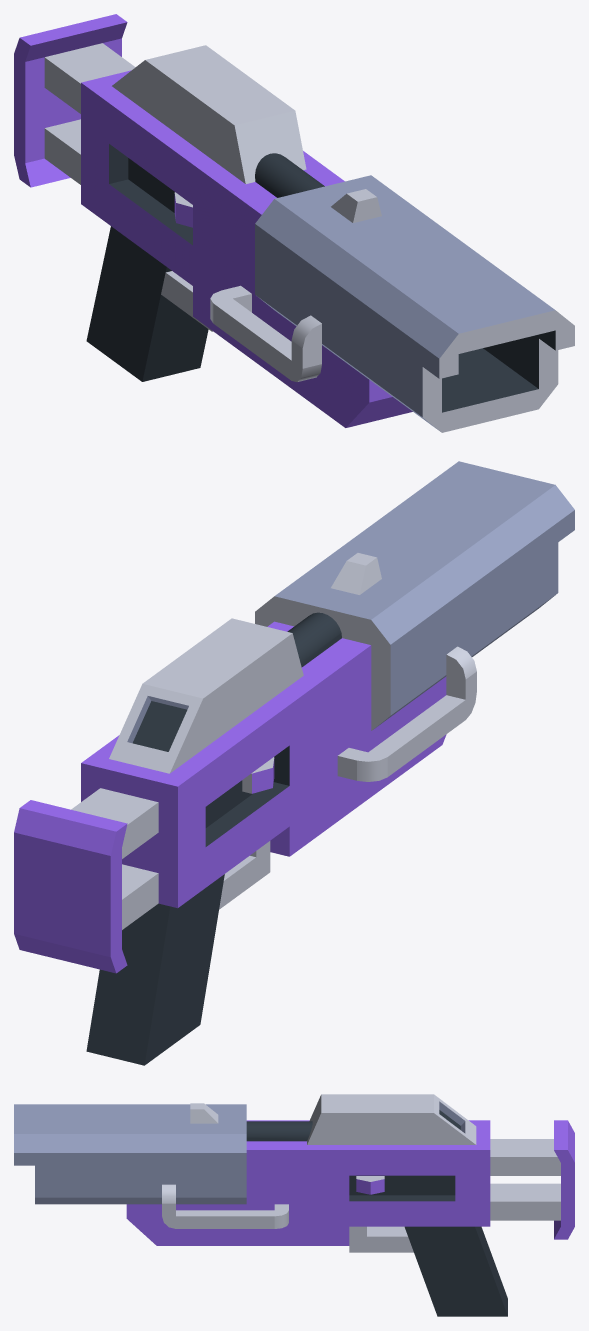
The model's file is shotgunB.glb.
The picture shows the model from 3 angles, top to bottom: view 1: azimuth 30°, elevation 25°; view 2: azimuth 150°, elevation 25°; view 3: azimuth 270°, elevation 25°; orthographic projection. The views are drawn at different scales.
Visible parts, largest first — view 1: blasterG; view 2: blasterG; view 3: blasterG.
Part boxes in pixels (box(x1,y1,x2,y2)): blasterG: box(14, 14, 574, 432); blasterG: box(14, 461, 574, 1065); blasterG: box(14, 1094, 574, 1316).
Bounding box in the file's own units: 0.18 × 0.32 × 0.7959.
